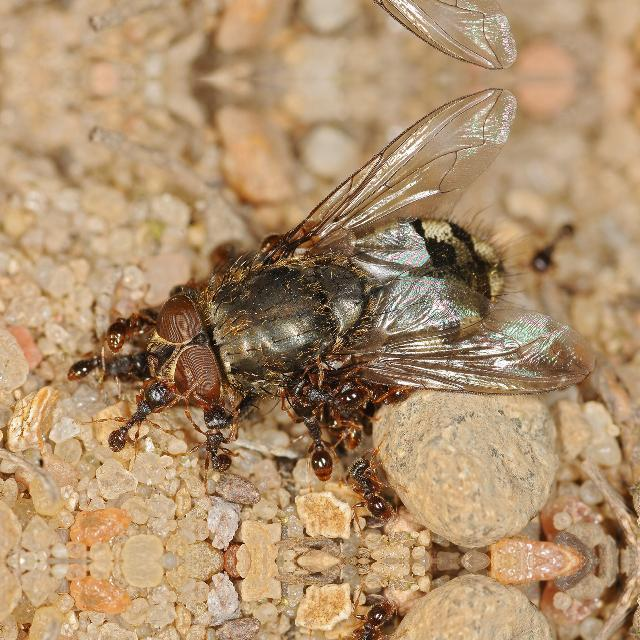Tetramorium: (174, 388, 268, 478), (105, 376, 191, 462), (341, 443, 405, 535), (290, 356, 368, 416), (60, 334, 150, 378), (100, 289, 166, 347), (341, 586, 405, 640), (300, 387, 334, 487)
